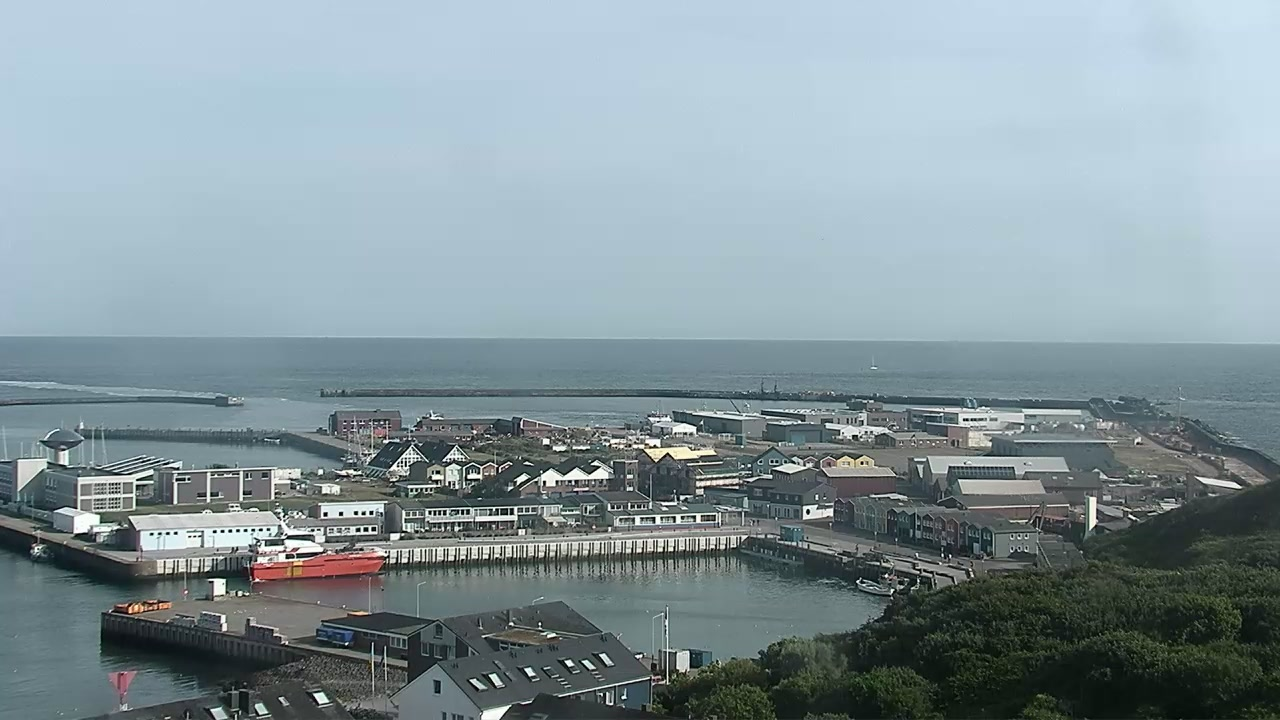human: (947, 551, 953, 563), (855, 542, 860, 553), (969, 560, 973, 569), (756, 518, 760, 525), (751, 519, 755, 526)
sea: (243, 520, 388, 580), (877, 564, 910, 596), (855, 575, 894, 595), (29, 542, 54, 561), (415, 408, 447, 421), (229, 395, 245, 406), (870, 354, 879, 369)
